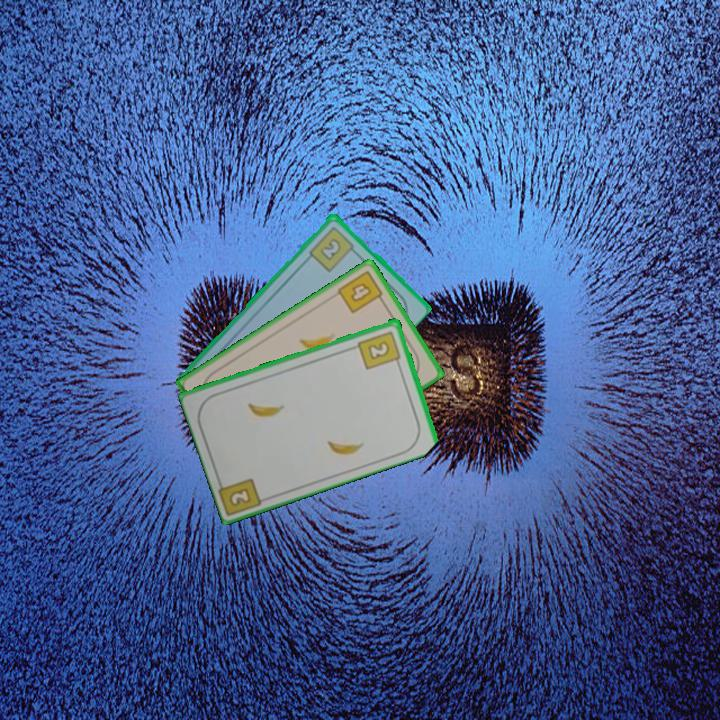2b: (306, 223, 360, 274), (355, 327, 404, 372), (226, 484, 254, 509)
4b: (334, 267, 388, 316)
